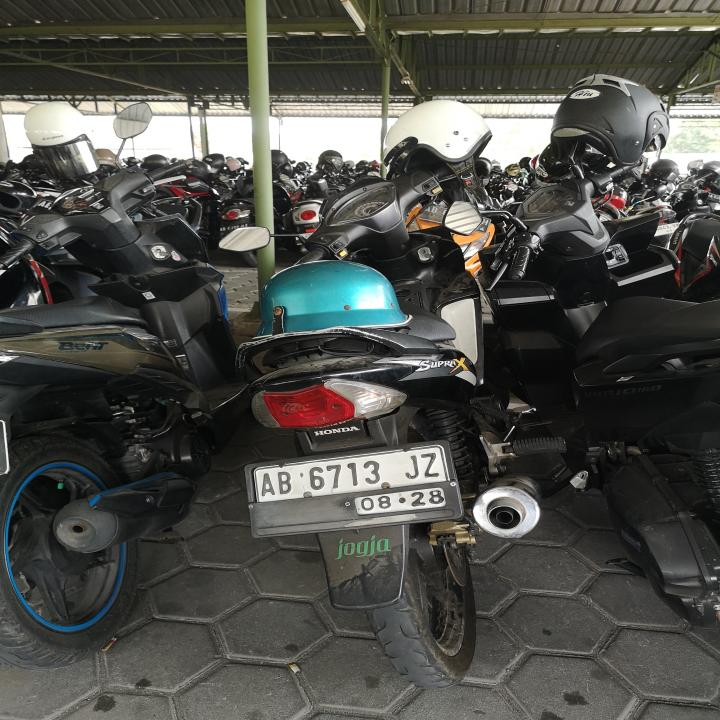plate: (249, 443, 452, 519)
